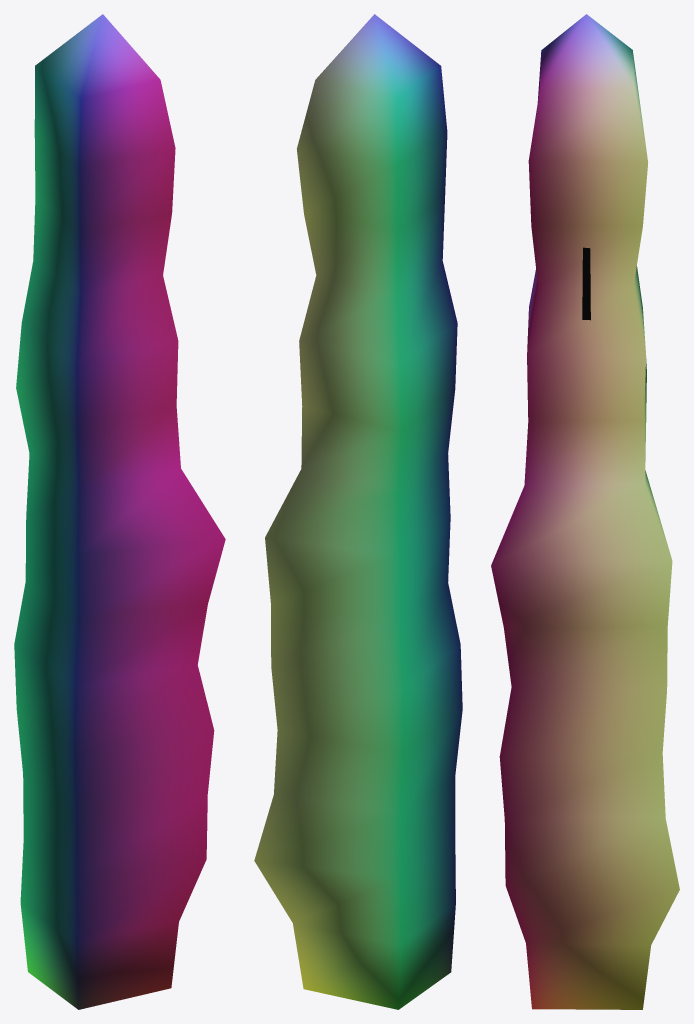
The model's file is SM_Palisade_Plains_Stake_C.fbx.
3 renders of one model, left to right at view 1: azimuth 30°, elevation 25°; view 2: azimuth 150°, elevation 25°; view 3: azimuth 270°, elevation 25°, orthographic.
Parts seen in each view (by area): view 1: SM_Palisade_Plains_Stake_C; view 2: SM_Palisade_Plains_Stake_C; view 3: SM_Palisade_Plains_Stake_C.
Boxes of the visible parts, x1,y1,x2,y2 form: SM_Palisade_Plains_Stake_C: (14, 14, 225, 1009); SM_Palisade_Plains_Stake_C: (254, 14, 462, 1009); SM_Palisade_Plains_Stake_C: (491, 14, 679, 1009).
Size of the model in its own units: 0.2238 by 1.54 by 0.2706.
